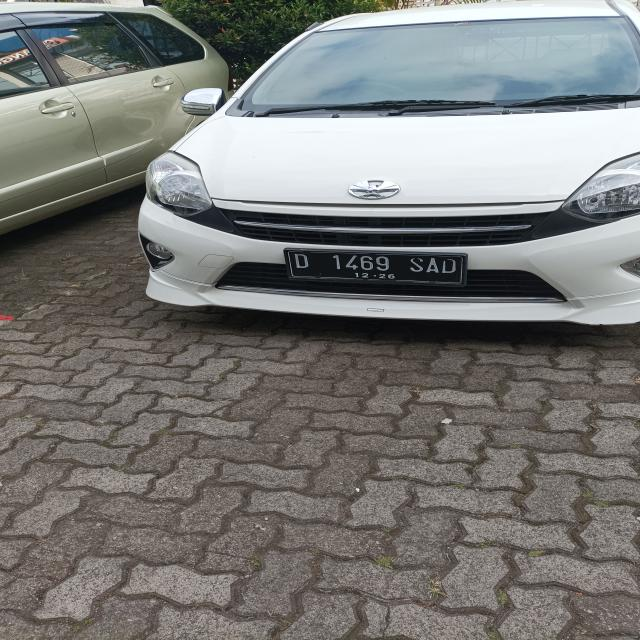license-plat: (277, 246, 474, 295)
